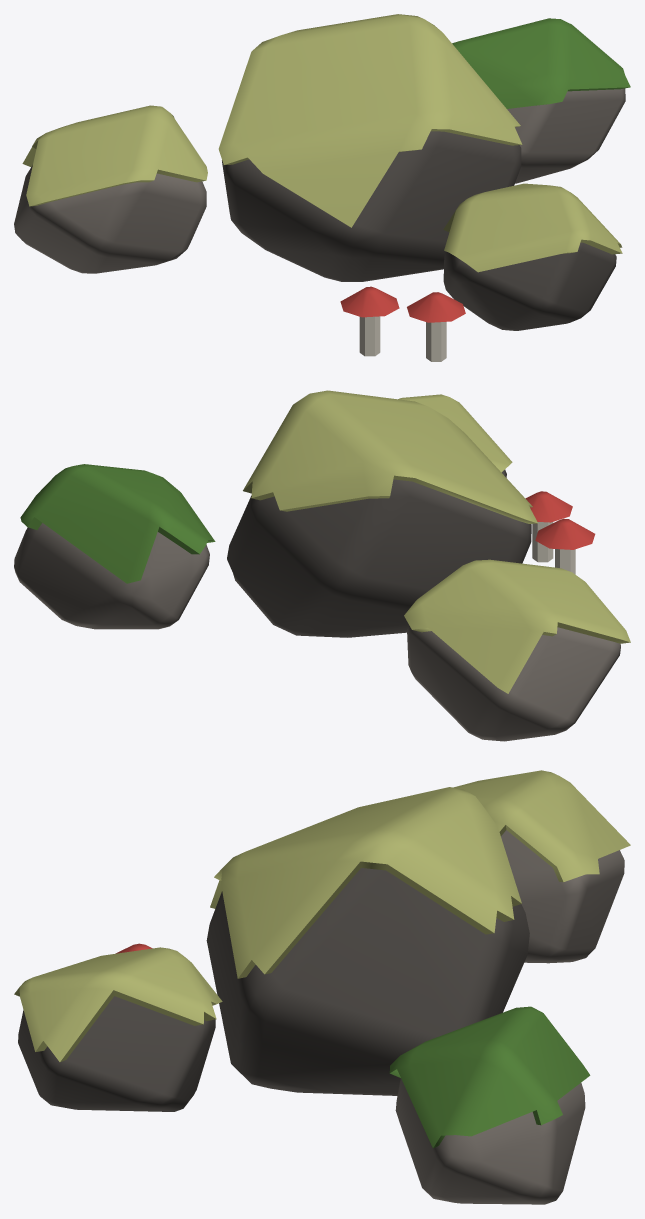
Rendered from rocher_foret_3.glb.
3 views of the same model, one above another, from view 1: azimuth 30°, elevation 25°; view 2: azimuth 150°, elevation 25°; view 3: azimuth 270°, elevation 25° (orthographic). The views are drawn at different scales.
Parts seen in each view (by area): view 1: mousse_lichen.002, roche_pierre_sombre.010, roche_pierre.012, mousse_mousse.006, champignons_ecorce_claire.002, chapeau_-0.005, chapeau_-0.004; view 2: mousse_lichen.002, roche_pierre_sombre.010, roche_pierre.012, mousse_mousse.006, chapeau_-0.004, chapeau_-0.005, champignons_ecorce_claire.002; view 3: roche_pierre_sombre.010, mousse_lichen.002, roche_pierre.012, mousse_mousse.006.
Boxes of the visible parts, x1,y1,x2,y2 form: mousse_lichen.002: (22,14,622,272); roche_pierre_sombre.010: (222,131,616,330); roche_pierre.012: (14,88,625,273); mousse_mousse.006: (452,18,630,108); champignons_ecorce_claire.002: (359,316,446,361); chapeau_-0.005: (407,292,465,322); chapeau_-0.004: (340,286,399,317); mousse_lichen.002: (243,390,630,693); roche_pierre_sombre.010: (227,469,531,637); roche_pierre.012: (14,523,620,741); mousse_mousse.006: (20,464,215,583); chapeau_-0.004: (535,518,595,549); chapeau_-0.005: (525,491,572,522); champignons_ecorce_claire.002: (532,522,575,574); roche_pierre_sombre.010: (18,868,529,1111); mousse_lichen.002: (14,770,630,1062); roche_pierre.012: (395,830,624,1204); mousse_mousse.006: (389,1006,590,1148).
Bounding box in the file's own units: 0.9987 × 0.3672 × 0.7453.
